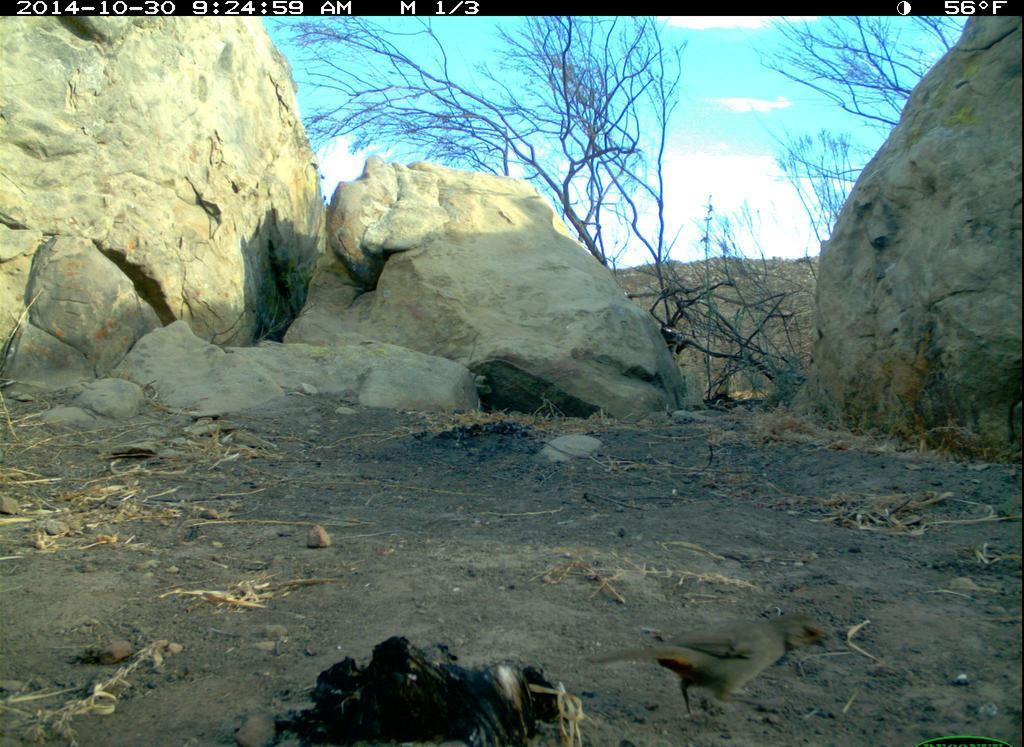bird: (573, 607, 844, 717)
